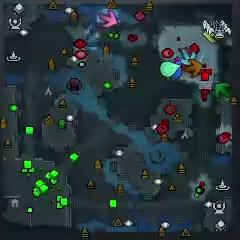p1: (169, 59, 184, 80)
p2: (160, 61, 180, 77)
x1: (100, 11, 117, 27)
x2: (202, 29, 216, 43)
x3: (179, 47, 196, 65)
x4: (214, 81, 230, 99)
x5: (184, 58, 203, 78)
